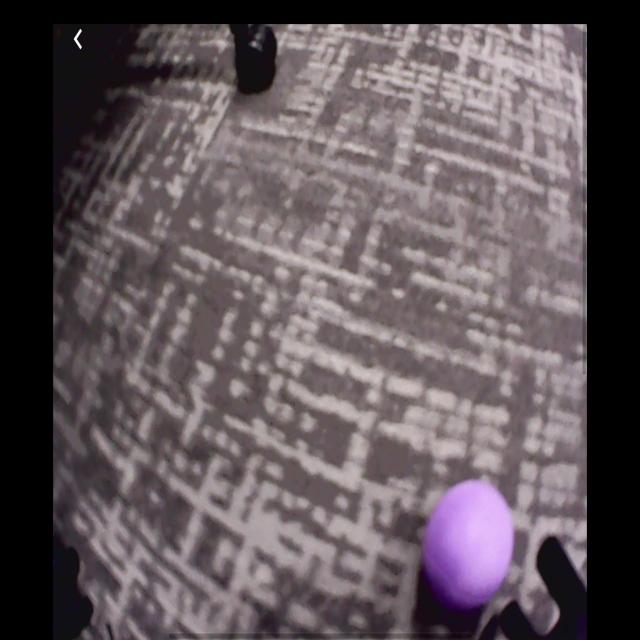ball: (425, 480, 516, 611)
